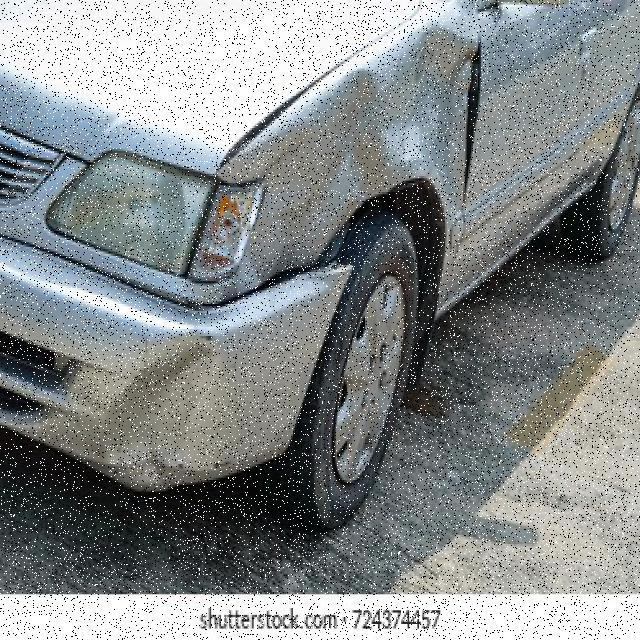bumper: (249, 55, 469, 275)
hood: (1, 283, 327, 496)
